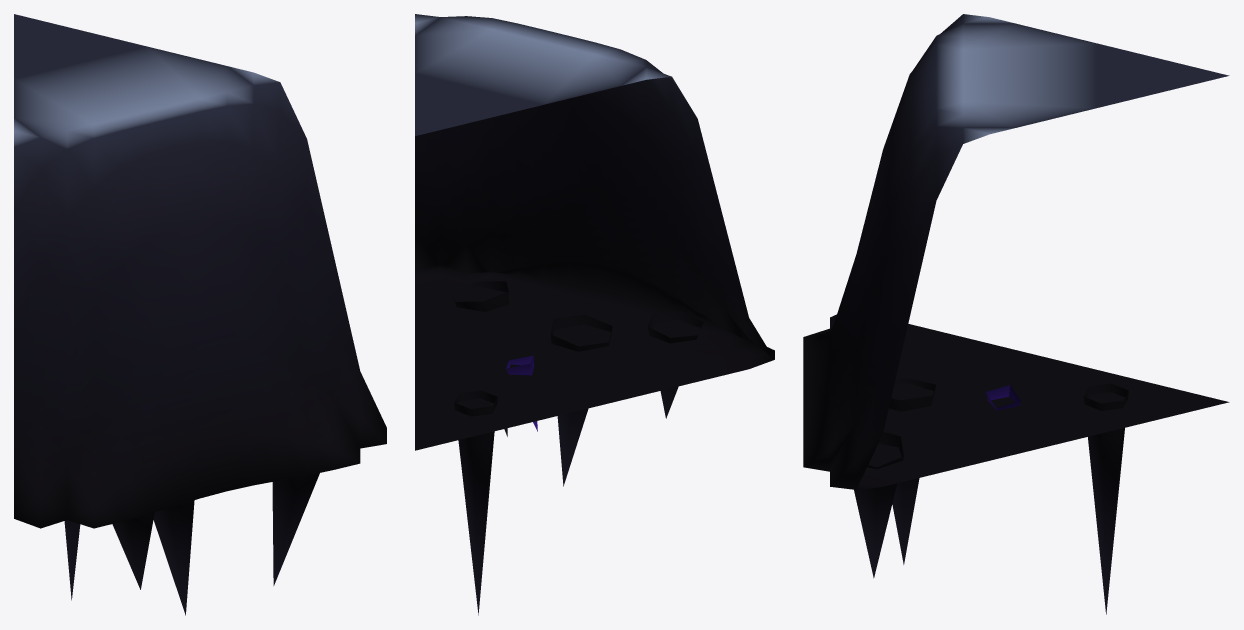
The model's file is MODULE_HOLLOW_OUT.fbx.
3 views of the same model, side by side, from view 1: azimuth 30°, elevation 25°; view 2: azimuth 150°, elevation 25°; view 3: azimuth 270°, elevation 25° (orthographic). The views are drawn at different scales.
Visible parts, largest first — view 1: MODULE_HOLLOW_OUT__export, MODULE_HOLLOW_OUT_DECOR__export; view 2: MODULE_HOLLOW_OUT__export, MODULE_HOLLOW_OUT_DECOR__export; view 3: MODULE_HOLLOW_OUT__export, MODULE_HOLLOW_OUT_DECOR__export.
Boxes of the visible parts, x1,y1,x2,y2 form: MODULE_HOLLOW_OUT__export: [14, 14, 386, 528]; MODULE_HOLLOW_OUT_DECOR__export: [64, 473, 319, 615]; MODULE_HOLLOW_OUT__export: [415, 14, 774, 450]; MODULE_HOLLOW_OUT_DECOR__export: [452, 281, 703, 615]; MODULE_HOLLOW_OUT__export: [803, 14, 1229, 489]; MODULE_HOLLOW_OUT_DECOR__export: [854, 378, 1128, 614].
Bounding box in the file's own units: 58.33 × 80.95 × 57.74.
